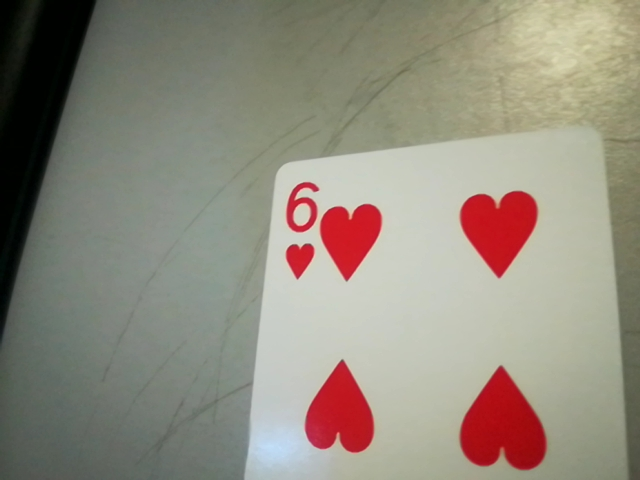hx 6: (274, 175, 326, 285)
